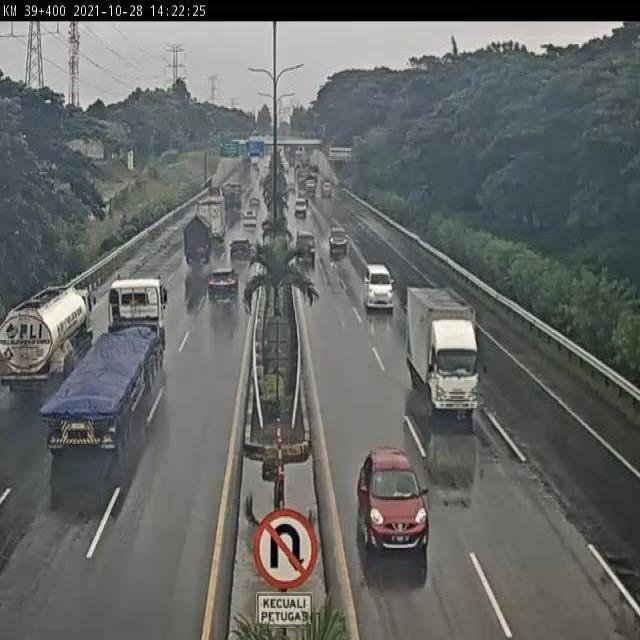car: (356, 442, 432, 558), (358, 256, 390, 305), (206, 270, 239, 310), (226, 237, 252, 267)
truck-l-: (193, 199, 225, 248)
truck-m-: (0, 284, 92, 397), (182, 217, 213, 267)
truck-s-: (405, 282, 482, 426)
truck-xl-: (44, 278, 166, 450)
